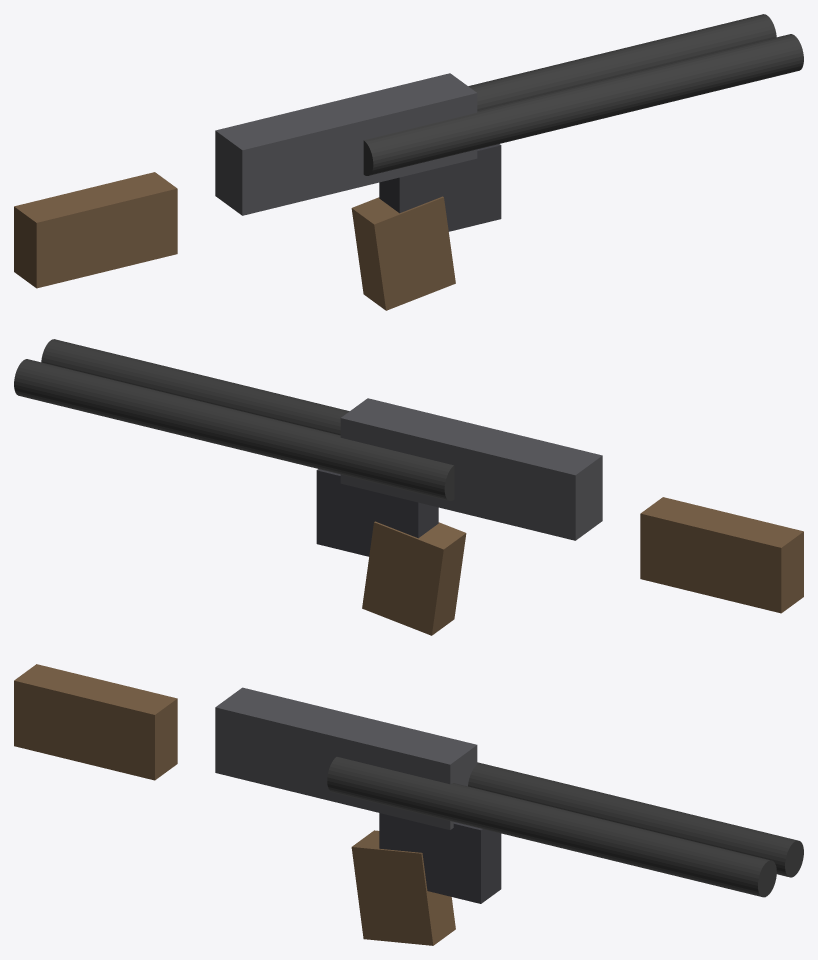
File: escopeta.glb
3 renders of one model, top to bottom at view 1: azimuth 30°, elevation 25°; view 2: azimuth 150°, elevation 25°; view 3: azimuth 330°, elevation 25°, orthographic.
Parts seen in each view (by area): view 1: Escopeta; view 2: Escopeta; view 3: Escopeta.
Boxes of the visible parts, x1,y1,x2,y2 form: Escopeta: (14, 14, 803, 310); Escopeta: (14, 339, 803, 635); Escopeta: (14, 664, 803, 945).
Bounding box in the file's own units: 0.965 × 0.2414 × 0.102.
